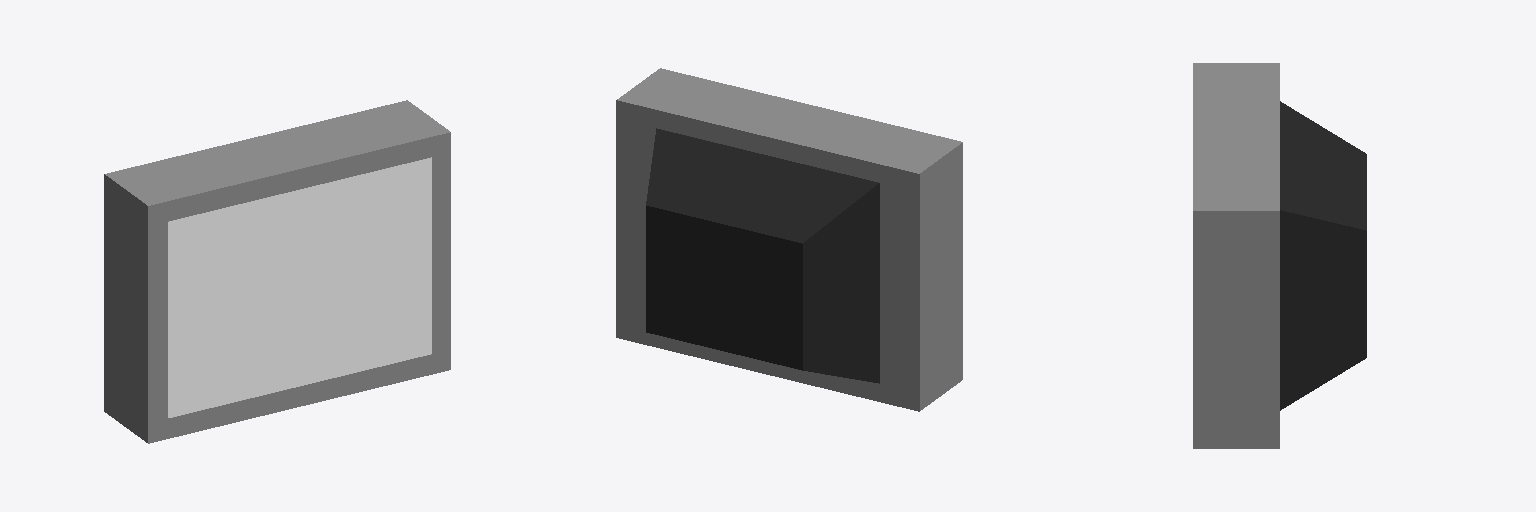
3 views of the same model, side by side, from view 1: azimuth 30°, elevation 25°; view 2: azimuth 150°, elevation 25°; view 3: azimuth 270°, elevation 25° (orthographic).
Parts seen in each view (by area): view 1: cube1; view 2: cube1; view 3: cube1.
Part boxes in pixels (x1,y1,x2,y2): cube1: (104,100,450,443); cube1: (616,68,962,411); cube1: (1193,63,1366,448).
Bounding box in the file's own units: 2 × 1.5 × 1.